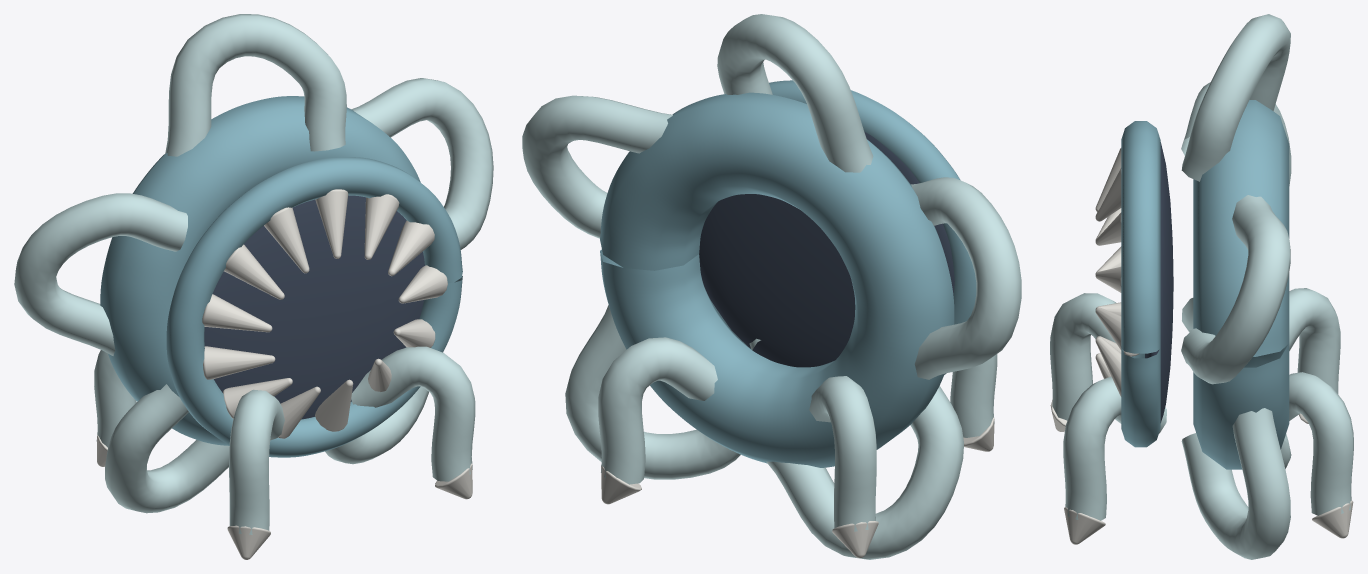
Rendered from bio_spiral_maw_05_near.glb.
3 renders of one model, left to right at view 1: azimuth 30°, elevation 25°; view 2: azimuth 150°, elevation 25°; view 3: azimuth 270°, elevation 25°, orthographic. The views are drawn at different scales.
Visible parts, largest first — view 1: Rear muscular torus, Recessed mouth cavity, Raised oral lip, Inward tooth, Coiling oral limb.001, Coiling oral limb.002, Coiling oral limb, Coiling oral limb.003, Crooked support.003, Crooked support.002, Coiling oral limb.004, Crooked support.001 (+2 smaller); view 2: Rear muscular torus, Recessed mouth cavity, Coiling oral limb.002, Coiling oral limb.003, Coiling oral limb.001, Coiling oral limb, Crooked support, Coiling oral limb.004, Crooked support.001, Raised oral lip, Crooked support.002, Contact spur.001 (+1 smaller); view 3: Rear muscular torus, Raised oral lip, Coiling oral limb.004, Coiling oral limb, Coiling oral limb.001, Crooked support, Crooked support.003, Crooked support.002, Inward tooth, Crooked support.001, Recessed mouth cavity, Contact spur.003 (+3 smaller).
Boxes of the visible parts, left/top/right/bottom form: Rear muscular torus: left=100, top=96, right=420, bottom=445; Recessed mouth cavity: left=204, top=195, right=424, bottom=419; Raised oral lip: left=166, top=157, right=462, bottom=457; Inward tooth: left=202, top=189, right=447, bottom=438; Coiling oral limb.001: left=165, top=14, right=346, bottom=156; Coiling oral limb.002: left=14, top=193, right=187, bottom=355; Coiling oral limb: left=351, top=78, right=493, bottom=249; Coiling oral limb.003: left=105, top=384, right=229, bottom=513; Crooked support.003: left=351, top=346, right=475, bottom=481; Crooked support.002: left=229, top=389, right=284, bottom=534; Coiling oral limb.004: left=325, top=387, right=428, bottom=464; Crooked support.001: left=94, top=350, right=136, bottom=447; Rear muscular torus: left=600, top=92, right=954, bottom=467; Recessed mouth cavity: left=699, top=131, right=954, bottom=367; Coiling oral limb.002: left=911, top=177, right=1021, bottom=379; Coiling oral limb.003: left=766, top=386, right=963, bottom=559; Coiling oral limb.001: left=717, top=14, right=873, bottom=172; Coiling oral limb: left=522, top=95, right=672, bottom=238; Crooked support: left=598, top=337, right=717, bottom=484; Coiling oral limb.004: left=565, top=305, right=740, bottom=479; Crooked support.001: left=809, top=376, right=876, bottom=531; Raised oral lip: left=711, top=80, right=976, bottom=374; Crooked support.002: left=950, top=354, right=997, bottom=437; Contact spur.001: left=832, top=521, right=878, bottom=558; Rear muscular torus: left=1193, top=100, right=1289, bottom=469; Raised oral lip: left=1121, top=121, right=1160, bottom=447; Coiling oral limb.004: left=1181, top=408, right=1290, bottom=559; Coiling oral limb: left=1181, top=195, right=1290, bottom=384; Coiling oral limb.001: left=1181, top=14, right=1290, bottom=181; Crooked support: left=1289, top=372, right=1353, bottom=515; Crooked support.003: left=1063, top=376, right=1166, bottom=520; Crooked support.002: left=1050, top=293, right=1115, bottom=420; Inward tooth: left=1095, top=148, right=1139, bottom=396; Crooked support.001: left=1289, top=288, right=1340, bottom=394; Recessed mouth cavity: left=1145, top=142, right=1173, bottom=422; Contact spur.003: left=1064, top=507, right=1105, bottom=544.
Size of the model in its own units: 2.49 by 2.45 by 1.39.
